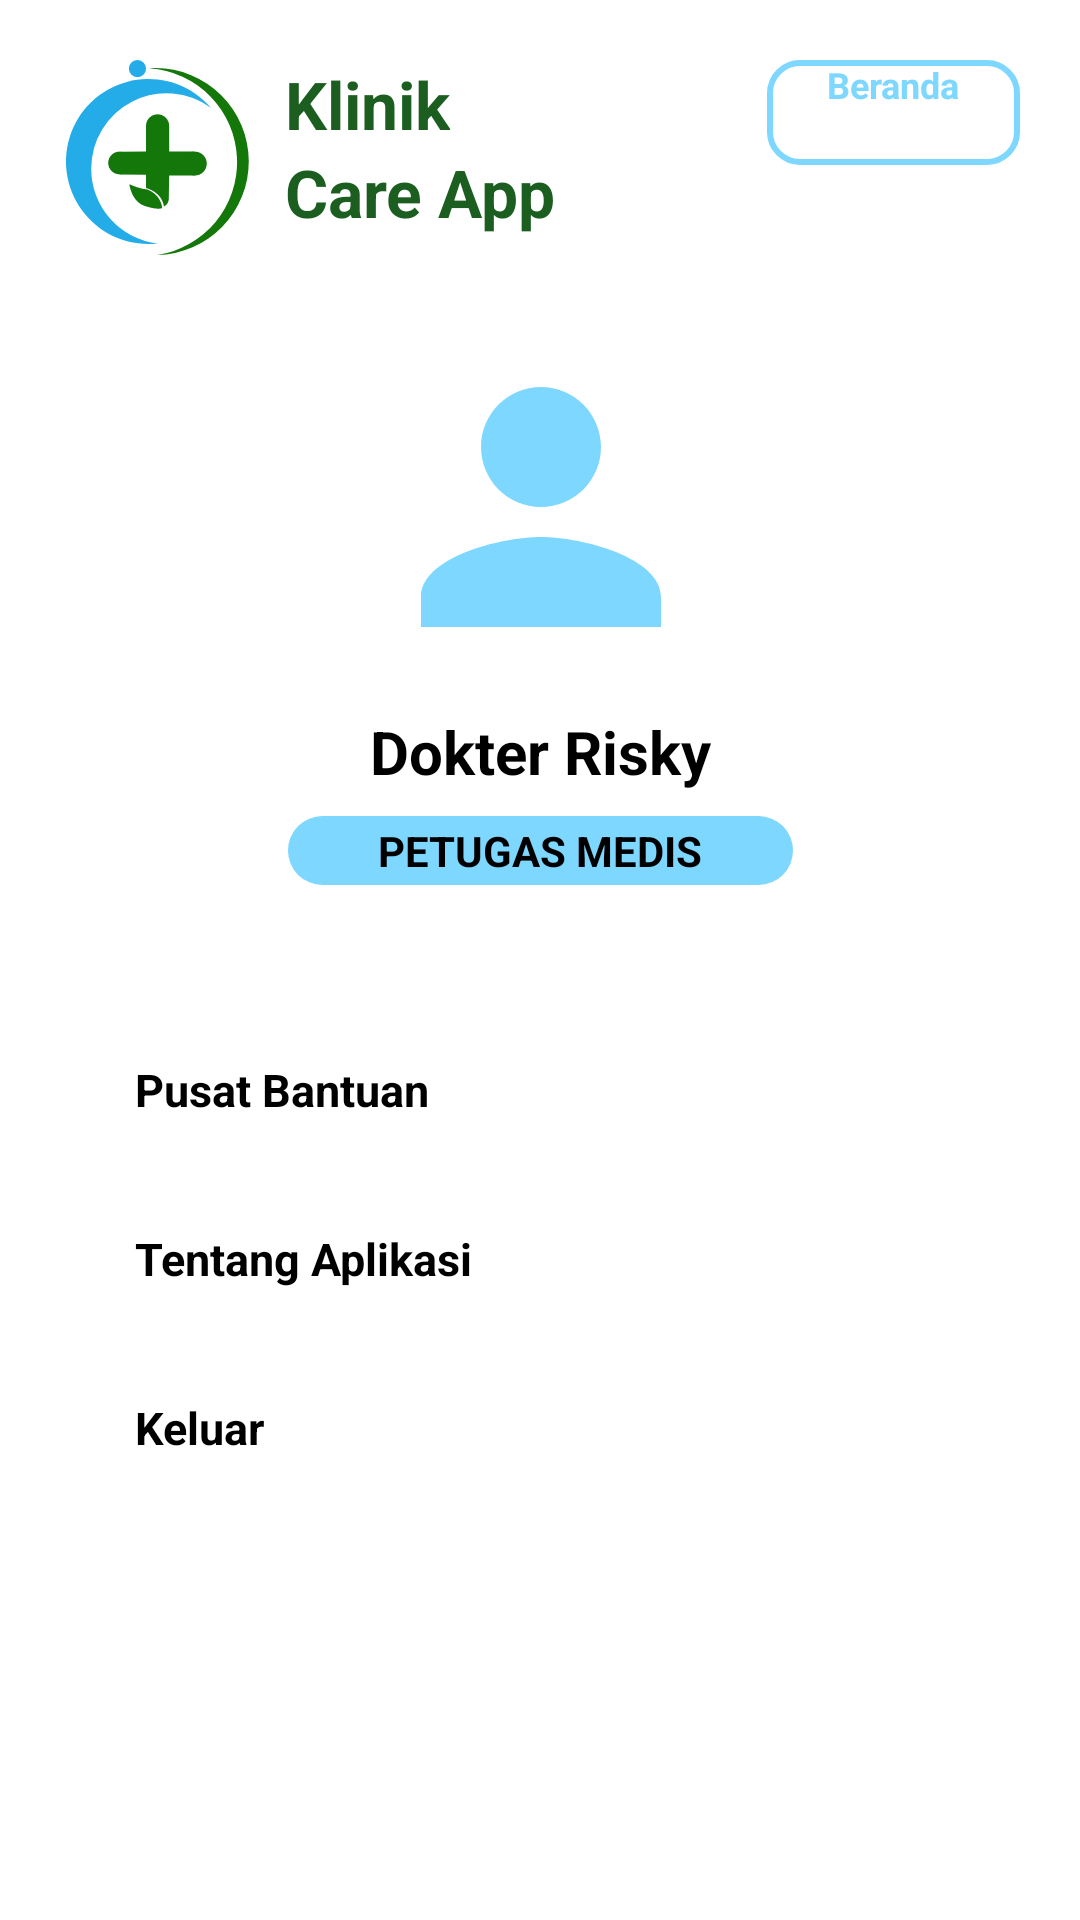

Where to tap for icons on this 1080px×1920px app screen, as point (x, y):
person: point (541, 507)
